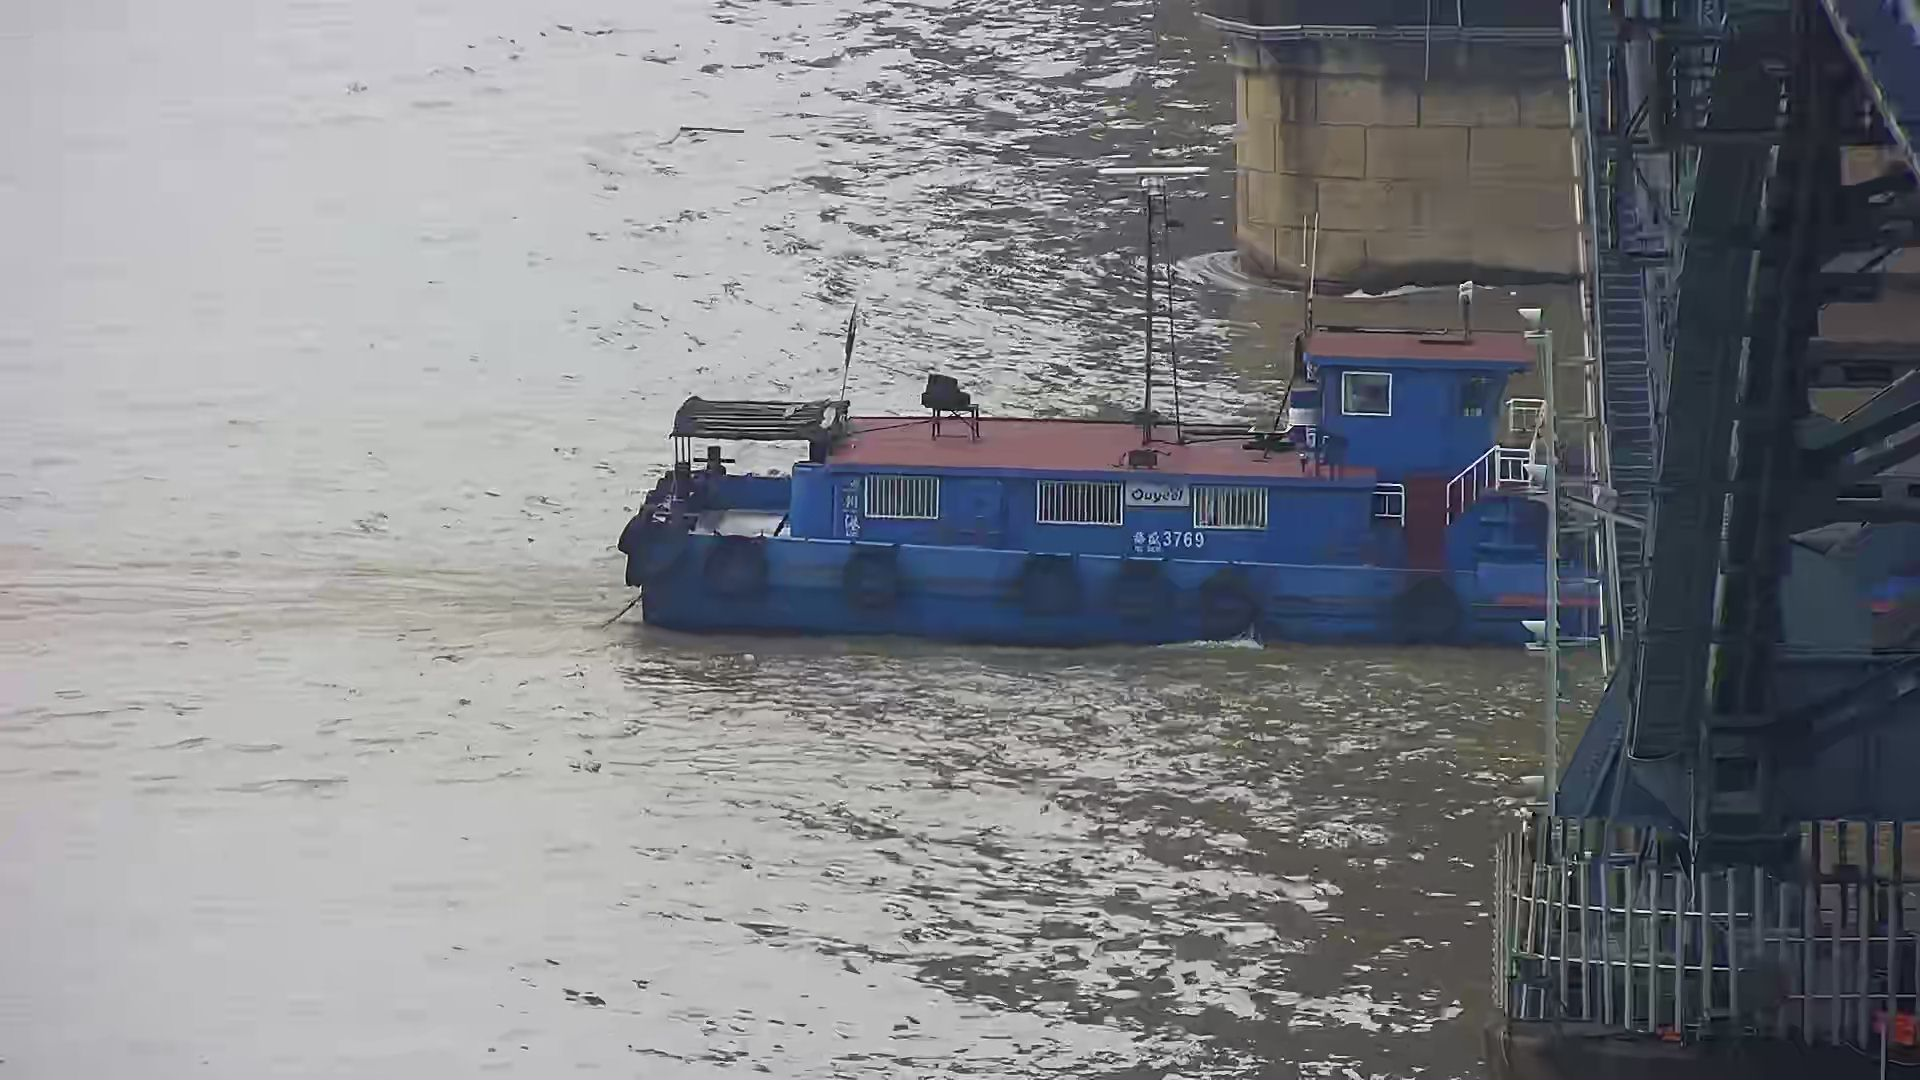boat: (609, 179, 1636, 667)
bridge: (1485, 8, 1920, 1080), (1164, 4, 1592, 293)
